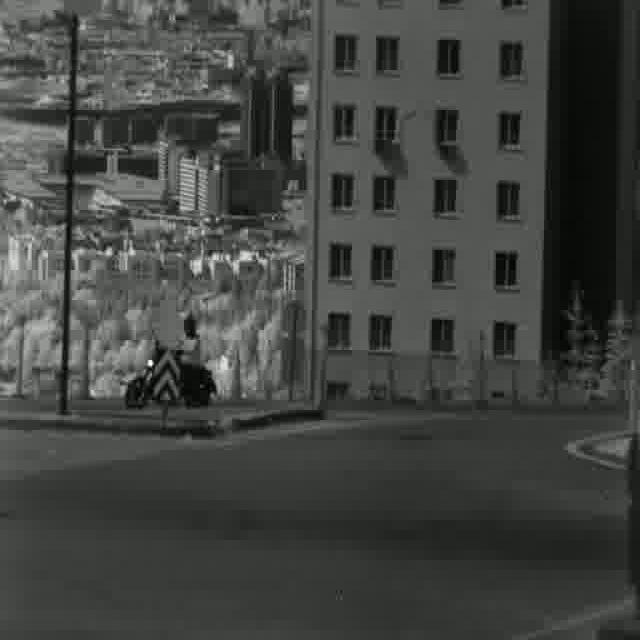Motorcycle: (126, 310, 214, 414)
